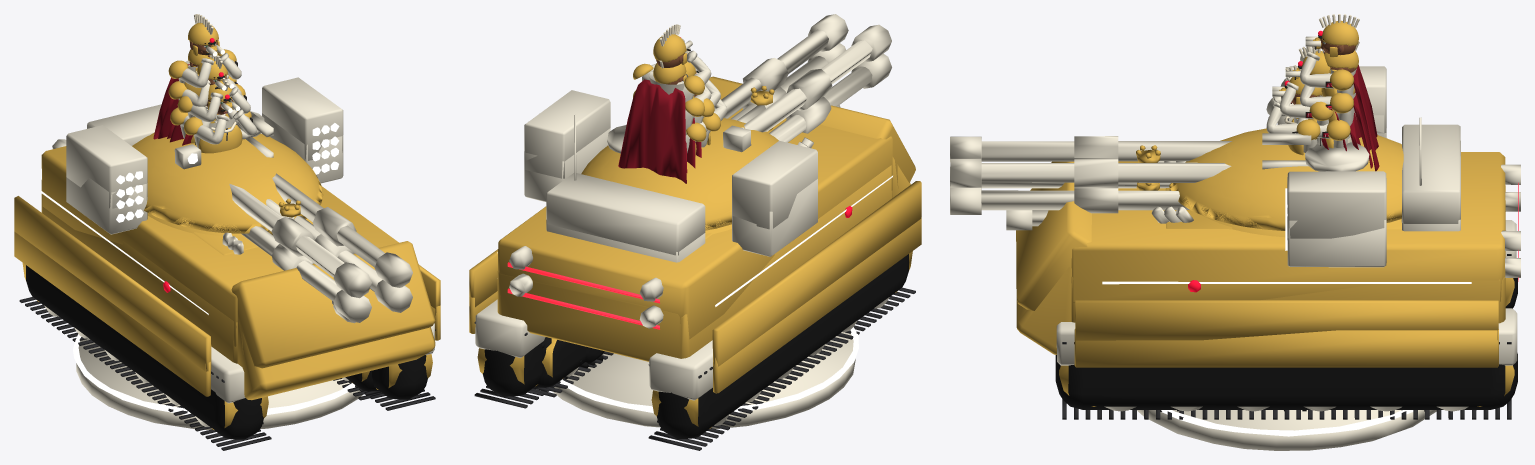
Rendered from bjoern_guld.glb.
3 views of the same model, side by side, from view 1: azimuth 30°, elevation 25°; view 2: azimuth 150°, elevation 25°; view 3: azimuth 270°, elevation 25° (orthographic). The views are drawn at different scales.
Parts seen in each view (by area): view 1: op4_net, ned4_net, fod_net, ned1.001_net, op4.001_net, ned2.002_net, ned4.001_net, ned2.001_net, op4.002_net, ned3_net, ned3.001_net; view 2: op4_net, ned4_net, fod_net, op4.001_net, ned3_net, op4.002_net, ned2.002_net, ned1.001_net, ned4.002_net, ned4.001_net, ned2.001_net, ned3.001_net; view 3: op4_net, ned4_net, fod_net, op4.001_net, ned2.001_net, ned4.001_net, ned1.001_net, op4.002_net, ned2.002_net, ned3.001_net, ned3_net, ned4.002_net.
Part boxes in pixels (x1,y1,x2,y2): op4_net: [14, 77, 440, 403]; ned4_net: [14, 113, 440, 450]; fod_net: [73, 334, 362, 429]; ned1.001_net: [182, 98, 256, 153]; op4.001_net: [153, 41, 241, 139]; ned2.002_net: [170, 76, 250, 144]; ned4.001_net: [158, 74, 241, 138]; ned2.001_net: [193, 45, 312, 255]; op4.002_net: [188, 14, 219, 57]; ned3_net: [262, 301, 381, 424]; ned3.001_net: [167, 106, 237, 143]; op4_net: [469, 14, 921, 400]; ned4_net: [469, 43, 921, 450]; fod_net: [552, 327, 858, 428]; op4.001_net: [618, 49, 711, 183]; ned3_net: [531, 105, 840, 422]; op4.002_net: [653, 24, 686, 67]; ned2.002_net: [687, 71, 720, 168]; ned1.001_net: [695, 99, 727, 157]; ned4.002_net: [653, 60, 686, 84]; ned4.001_net: [633, 74, 711, 135]; ned2.001_net: [541, 105, 813, 379]; ned3.001_net: [685, 121, 707, 172]; op4_net: [950, 66, 1520, 365]; ned4_net: [950, 115, 1520, 419]; fod_net: [1137, 410, 1436, 450]; op4.001_net: [1300, 35, 1379, 171]; ned2.001_net: [1151, 117, 1424, 411]; ned4.001_net: [1300, 75, 1372, 168]; ned1.001_net: [1266, 85, 1328, 155]; op4.002_net: [1318, 14, 1359, 57]; ned2.002_net: [1280, 65, 1346, 151]; ned3.001_net: [1297, 112, 1361, 149]; ned3_net: [1006, 210, 1048, 230]; ned4.002_net: [1322, 41, 1359, 73].
Size of the model in its own units: 1.94 by 2.3 by 3.24.
